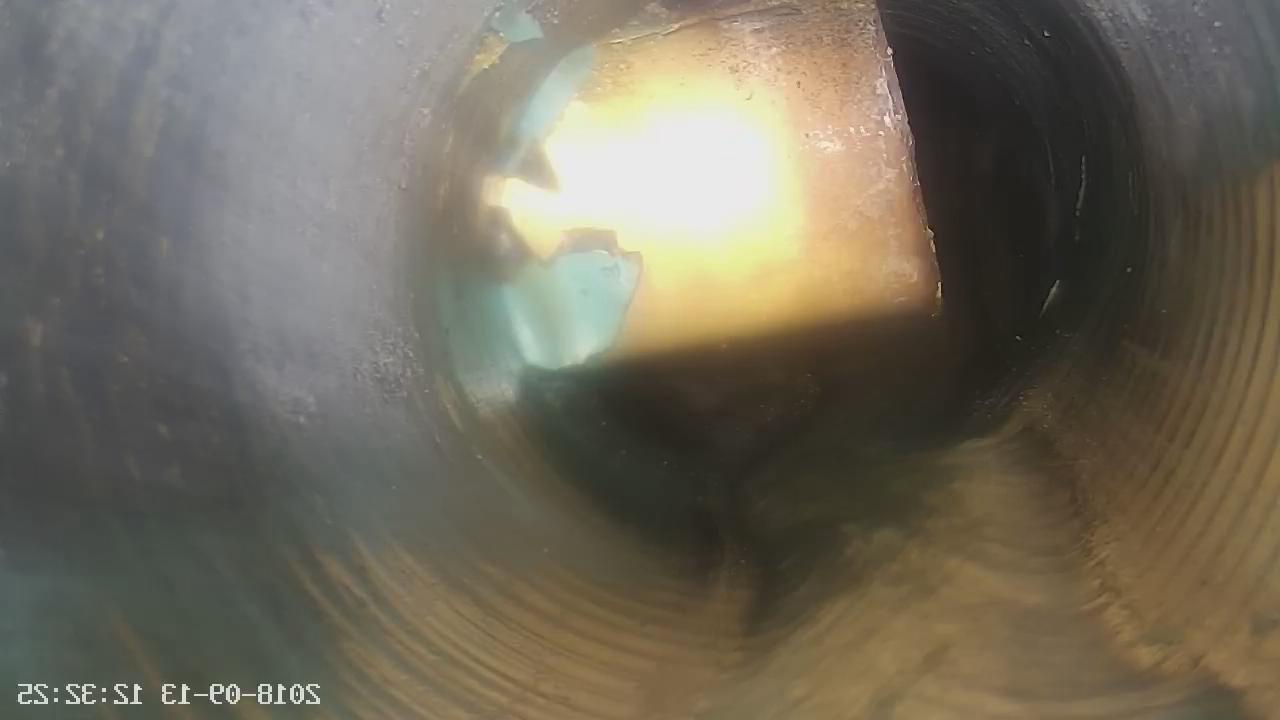ZGAJ: (468, 0, 939, 370)
